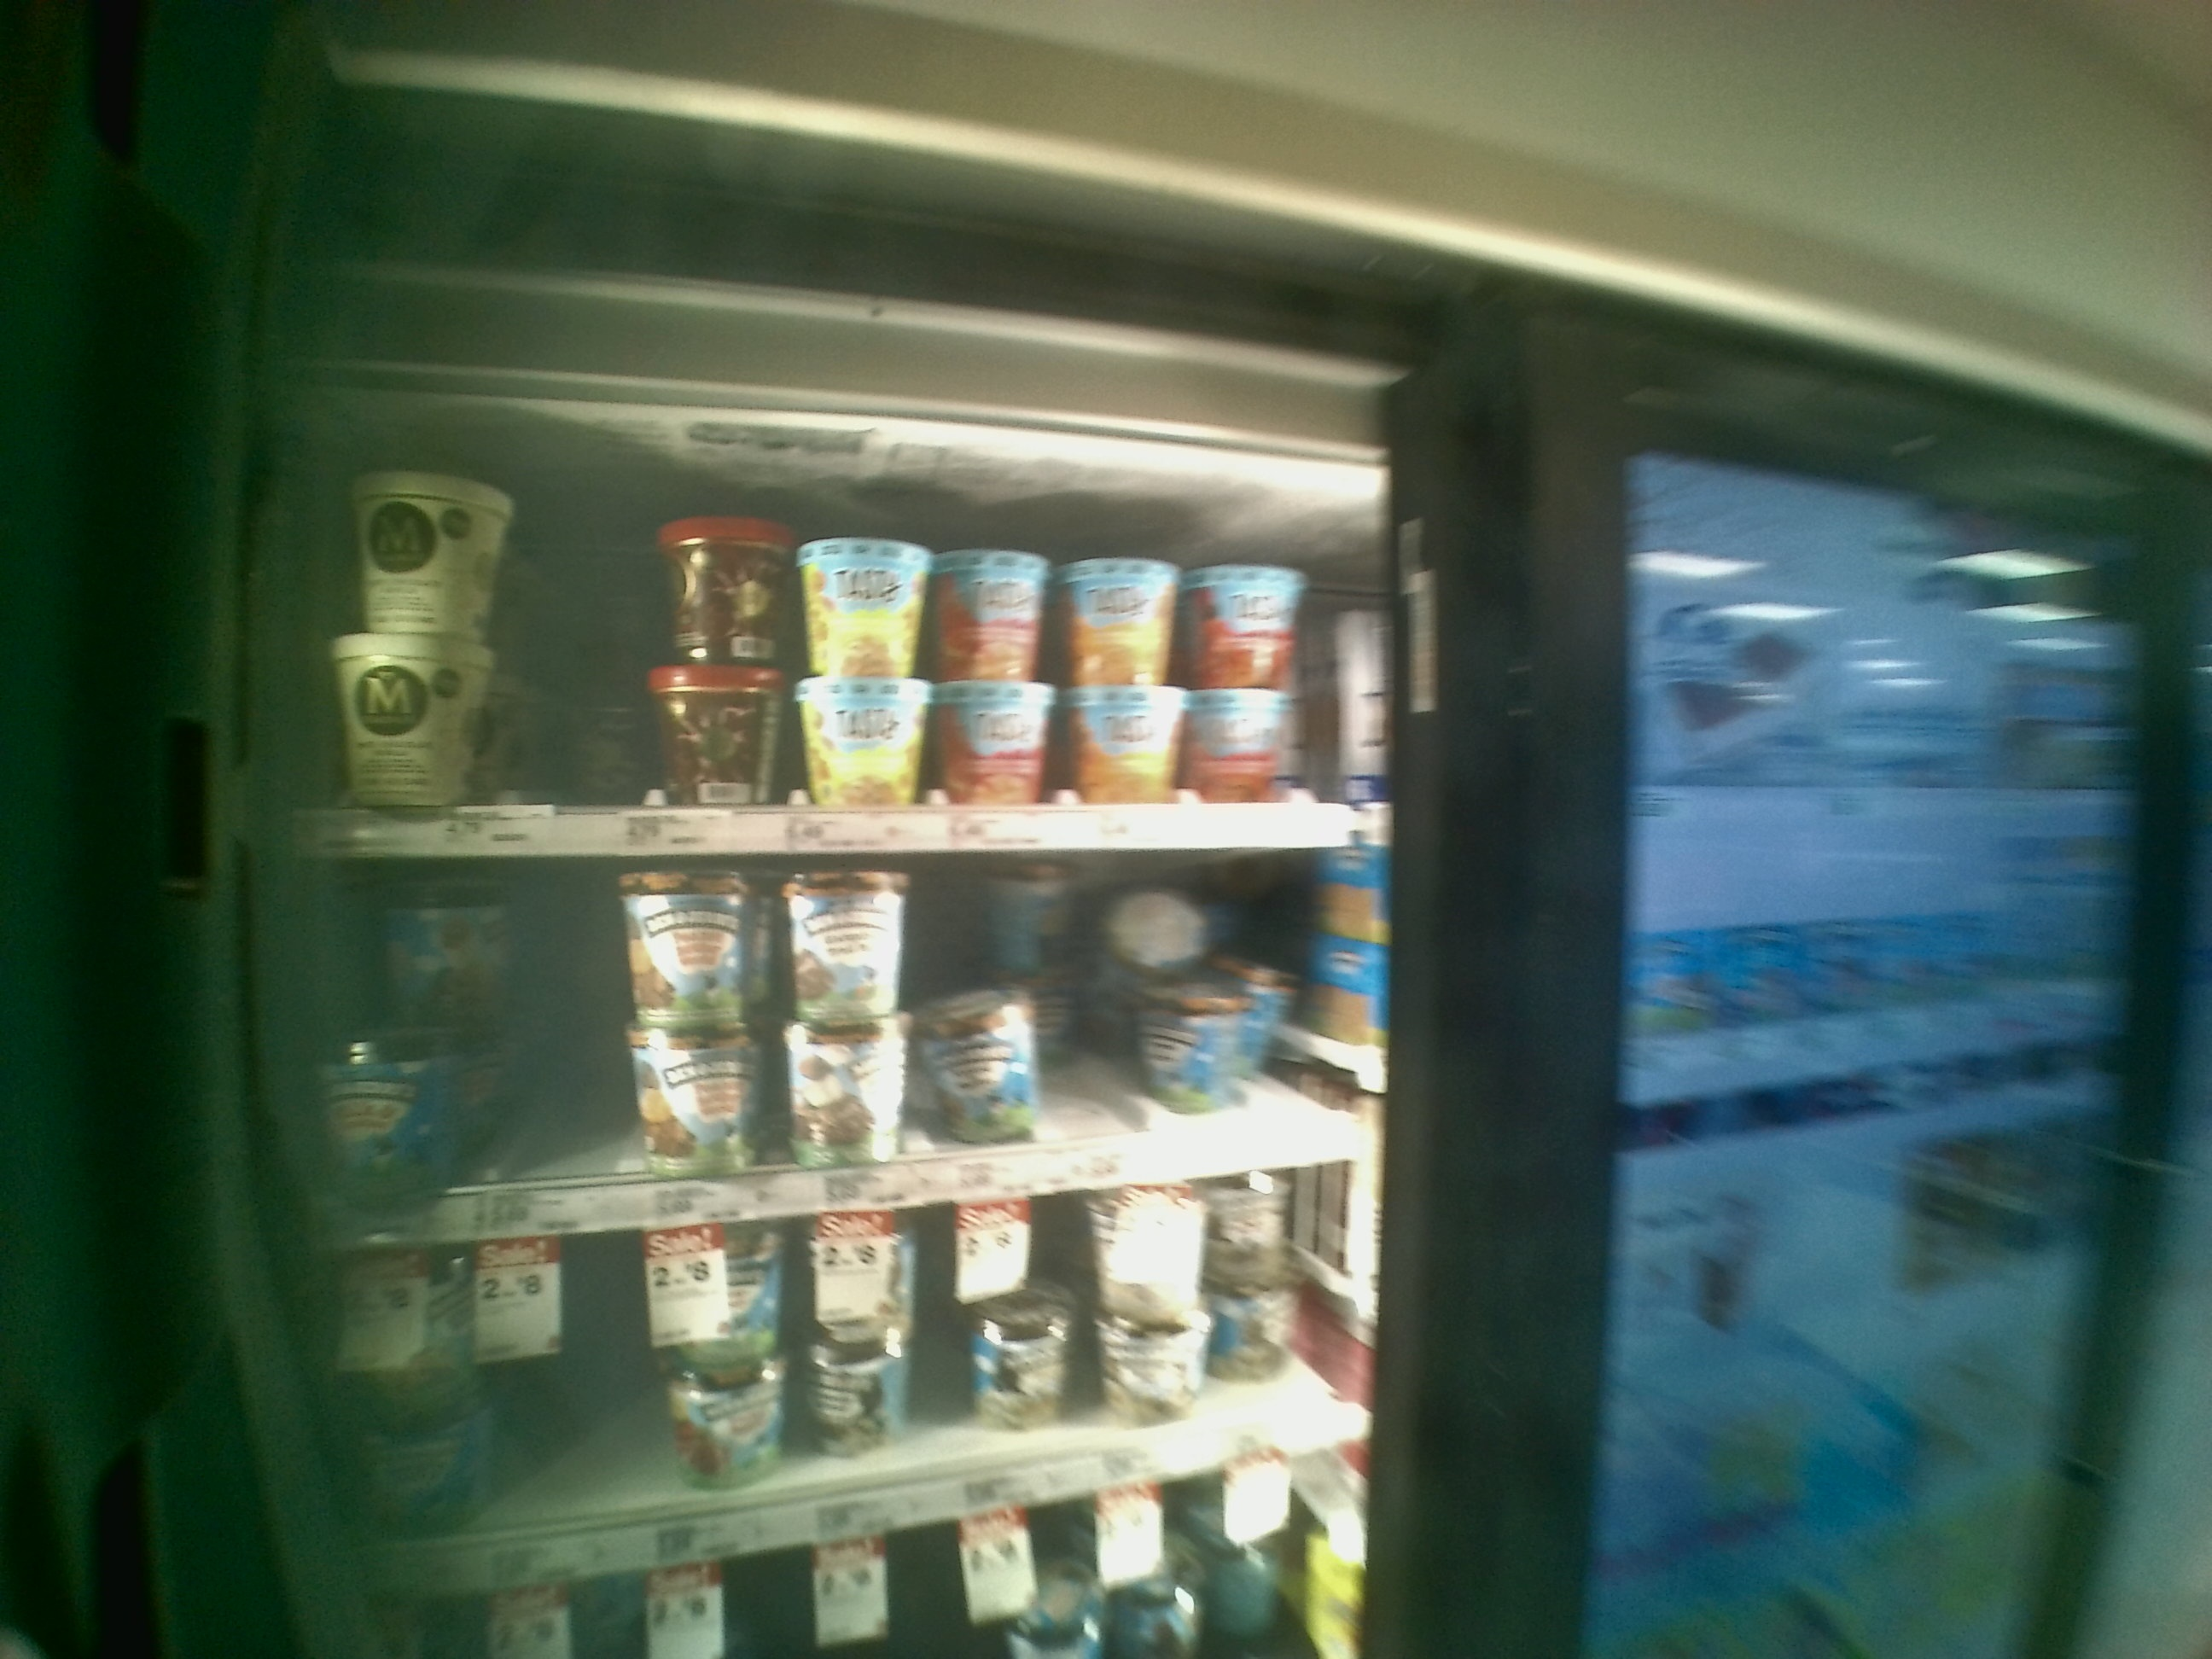shelf: (275, 392, 1371, 852), (279, 857, 1399, 1256)
